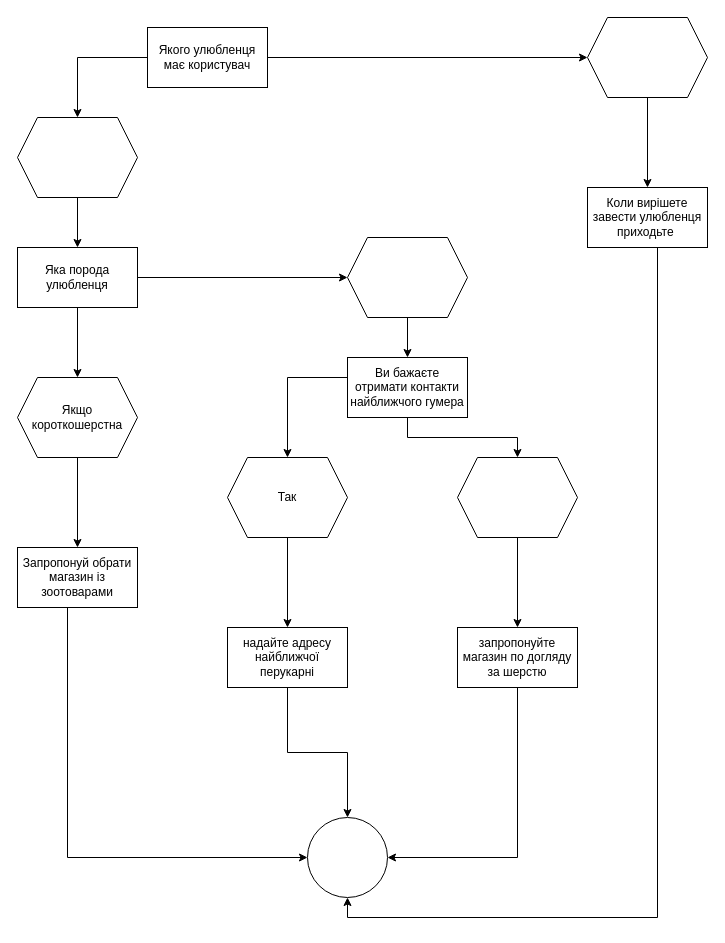
The diagram is 725 pixels wide and 943 high, and some of its shapes have lost their labels. Each missing label, with the box of its shape:
Кінець: (306, 816, 388, 898)
Ні: (456, 456, 578, 538)
якщо довгошерстна: (346, 236, 468, 318)
Якщо кота немає: (586, 16, 708, 98)
Якщо має кота: (16, 116, 138, 198)
